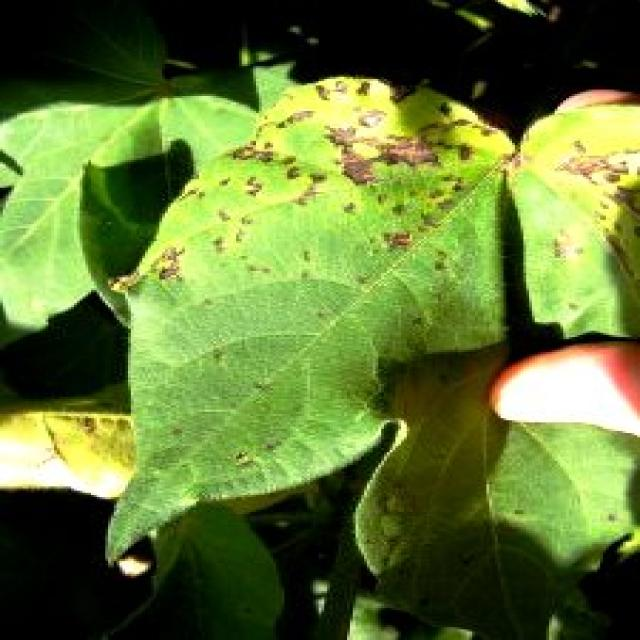Bacterial Blight: (251, 106, 519, 253)
